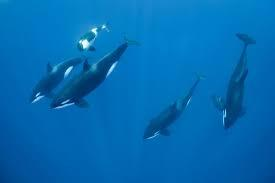swimmer: (40, 31, 145, 121), (138, 70, 208, 148), (212, 29, 257, 131), (29, 52, 92, 106), (74, 19, 114, 54)
